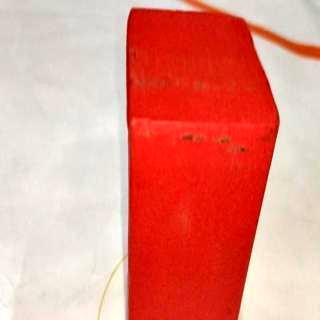redbox: (127, 6, 279, 320)
